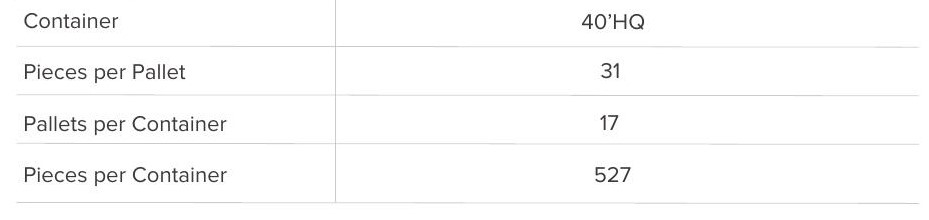table: (6, 1, 928, 216)
table column: (347, 5, 914, 210), (19, 5, 327, 209)
table row: (13, 148, 924, 199), (12, 101, 924, 142), (13, 51, 921, 91), (13, 7, 919, 44)
